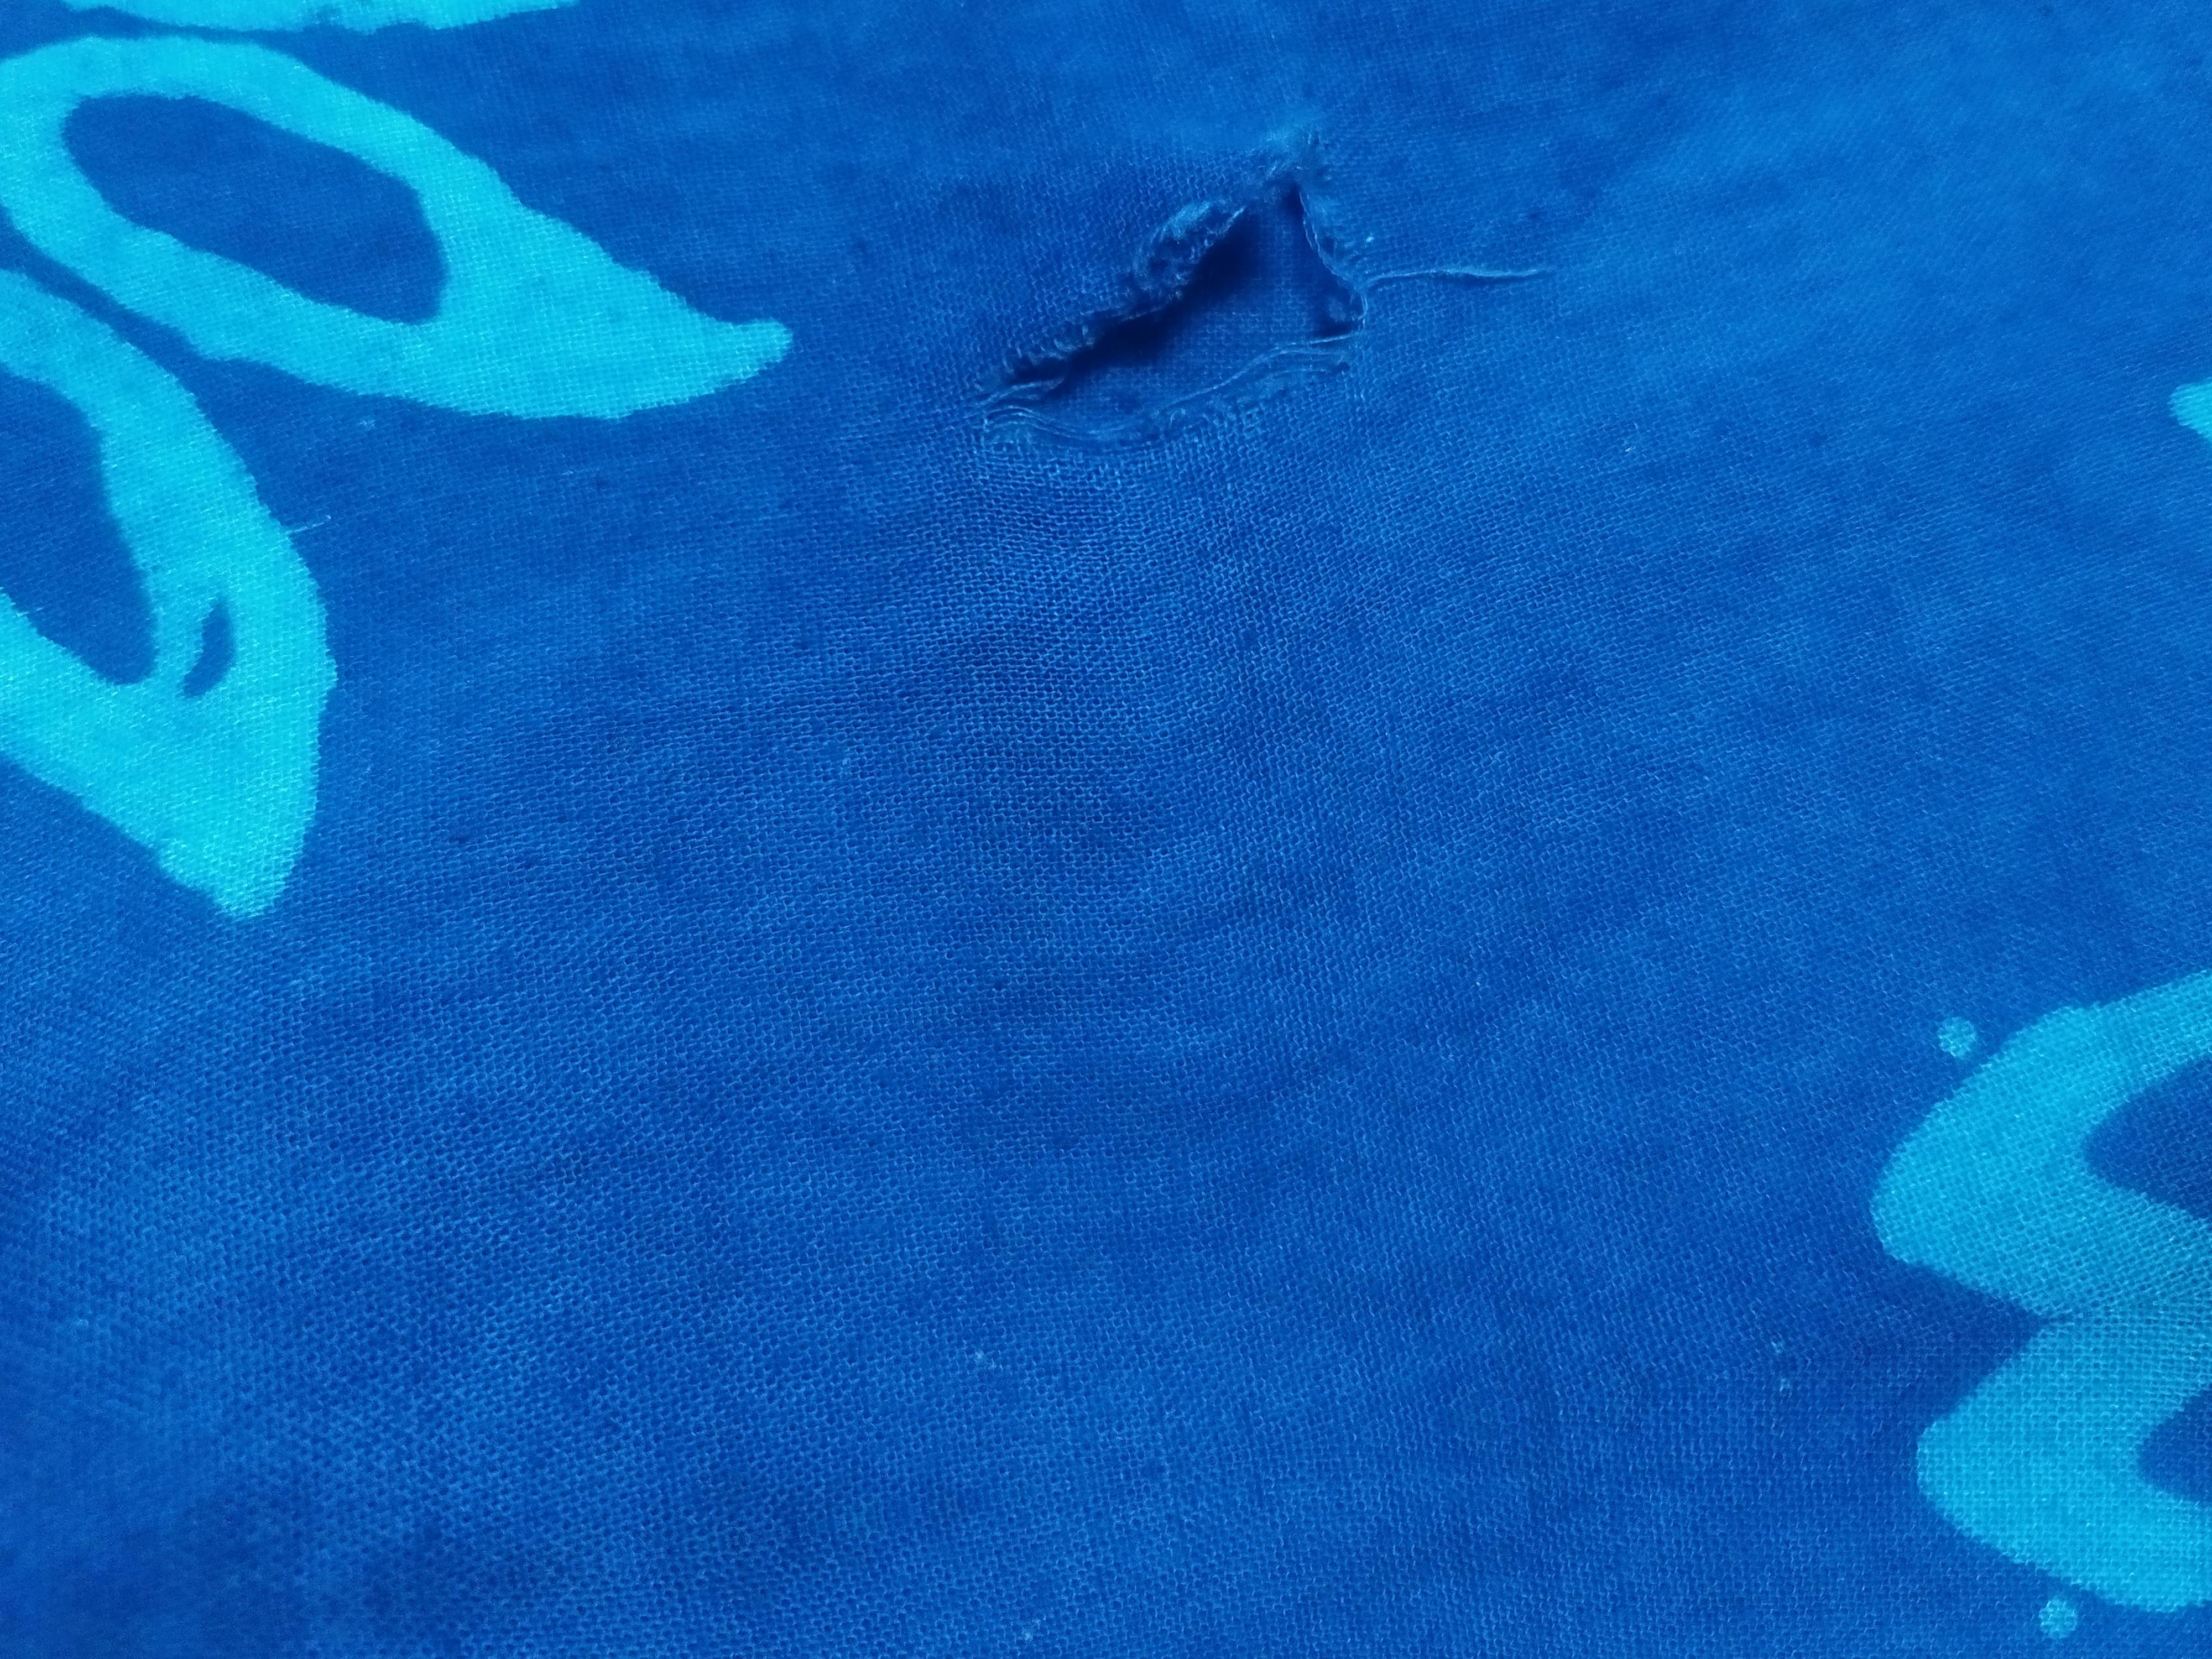hole: (989, 139, 1430, 446)
